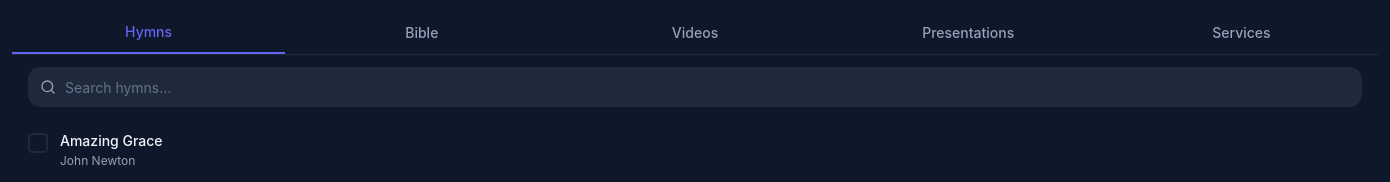
Test: SearchRoute — G3 (debounce 120 ms) › clears query and resets results on X button click
Expected: the text "Amazing Grace" is shown, left=60, top=132, right=163, bottom=149
Step 1. Type "amazing" into the search field with placeholder "Search hymns…" → x=695, y=87, box left=28, top=67, right=1362, bottom=107
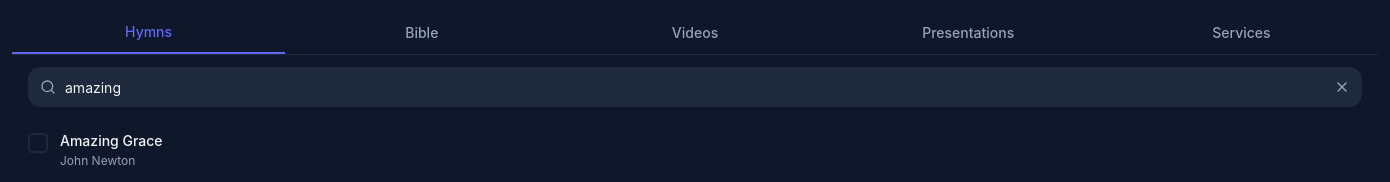
Result: the button named "Clear search results" is shown
Step 2. Click the button named "Clear search results" → x=1342, y=87, box left=1334, top=79, right=1350, bottom=95
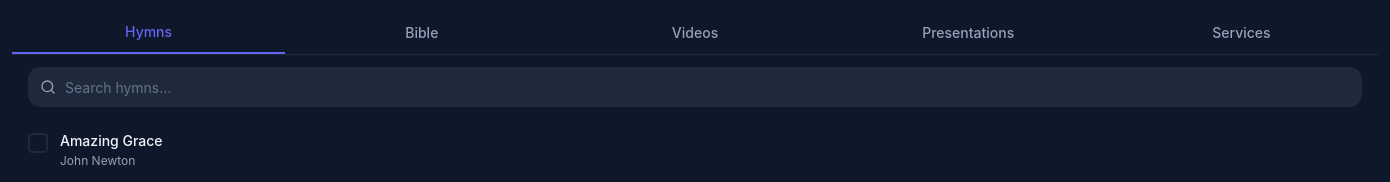
Result: the search field with placeholder "Search hymns…" is empty at left=28, top=67, right=1362, bottom=107
